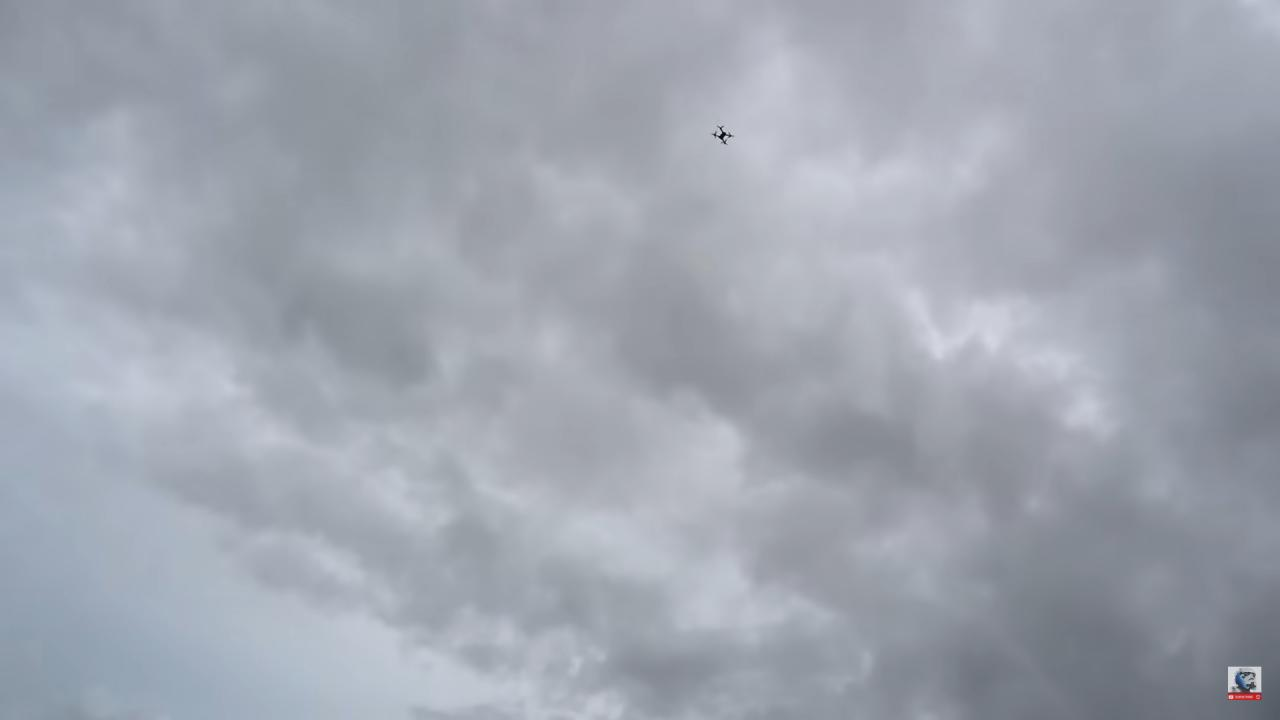Drone: (706, 120, 740, 149)
